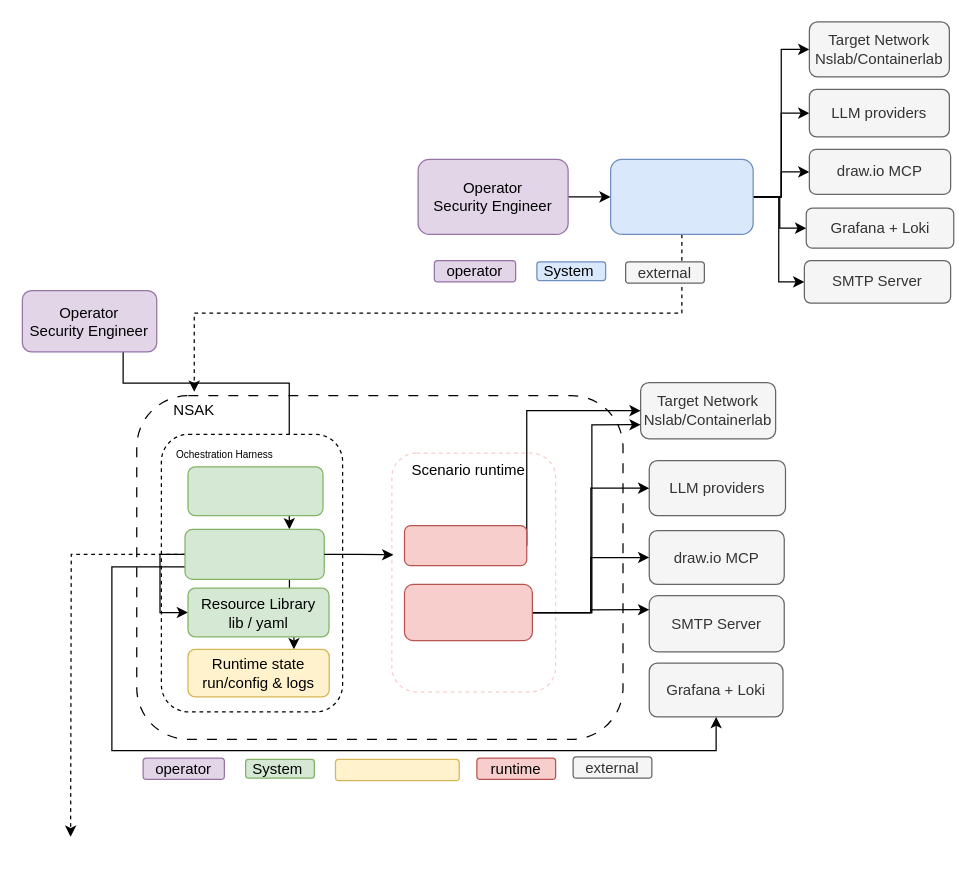
The diagram is 976 pixels wide and 869 high, and some of its shapes have lost their labels. Here are the shapes that lost their labels. From the top down, the centre of each, then its label:
point 681,196: NSAK Network Security Framework
point 255,491: CLI application
point 254,553: Core library Manage
point 465,545: static scenario drills
point 467,612: ai scenario create agent
point 396,769: data storage
